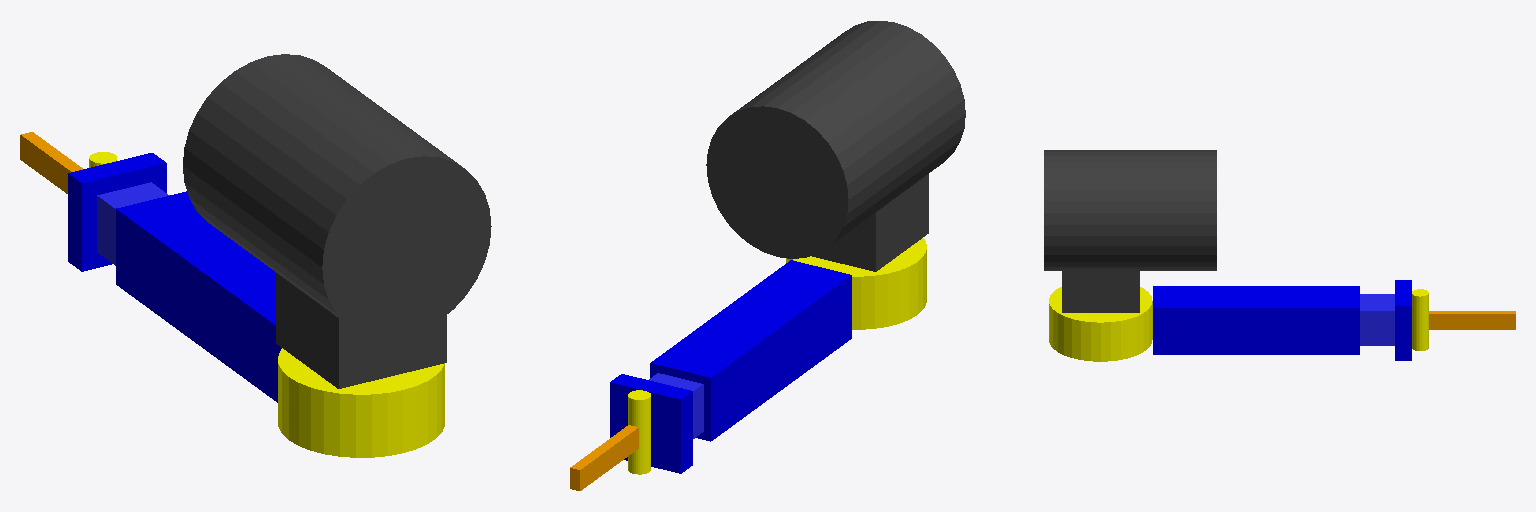
robot.urdf — third_arm_v1:
<?xml version="1.0"?>

<robot name="third_arm_v1">

  <!-- Third Arm Model I has 3 joints, need many more links to make the model -->

  <link name="base_link">
    <visual>
      <origin xyz="0 0 0" rpy ="1.5708 0 0"/>
      <material name="Grey">
      <color rgba="0.3 0.3 0.3 1.0"/>
      </material>
      <geometry>
        <cylinder length="0.2" radius="0.07" />
      </geometry>
    </visual>
  </link>

  <link name="block_to_base">
    <visual>
		<origin xyz="0 0 0" rpy ="0 1.5708  0"/>
      <material name="Gray">
       <color rgba="0.3 0.3 0.3 1.0"/>
      </material> 	
      <geometry>
        <box size="0.08 0.09 .09"/>
      </geometry>
    </visual>
  </link>

  <joint name="brace_block_link" type="fixed">
  	<origin xyz="0 -0.035 -0.07" rpy="0 0 0" />
    <parent link="base_link"/>
    <child link="block_to_base"/>
  </joint>


  <link name="base_motor">
  	<inertial>
  		<origin xyz="0 0 0" rpy ="0 0 0"/>
  		<mass value="1"/>
  		<inertia ixx="100"  ixy="0"  ixz="0" iyy="100" iyz="0" izz="100" />
  	</inertial>
    <visual>
		<origin xyz="0 0 0" rpy ="0 0  0"/>
      <material name="Yellow">
       <color rgba="1.0 1.0 0.0 1.0"/>
      </material> 	
      <geometry>
        <cylinder length="0.05" radius="0.06"/>
      </geometry>
    </visual>
  </link>


  <joint name="base_to_motor1" type="revolute">
  	<axis xyz="0 0 1"/>
  	<limit lower="-1.5708" upper="1.5708" effort="10" velocity="0.314"/>
  	<origin xyz="0 0 -0.07" rpy="0 0 0" />
    <parent link="block_to_base"/>
    <child link="base_motor"/>
  </joint>



  <link name="extend_link1">
    <visual>
		<origin xyz="0 0 0" rpy ="0 0 0"/>
      <material name="Blue">
       <color rgba="0 0.0 1.0 0.7"/>
      </material> 	
      <geometry>
        <box size="0.06 .24 .06"/>
      </geometry>
    </visual>
  </link>

  <joint name="motor1_to_extend1" type="fixed">
  	<origin xyz="0 0.18 0" rpy="0 0 0" />
    <parent link="base_motor"/>
    <child link="extend_link1"/>
  </joint>

  <link name="extend_link2">
    <visual>
		<origin xyz="0 0 0" rpy ="0 0 0"/>
      <material name="Blue2">
       <color rgba="0.2 0.2 1.0 1.0"/>
      </material> 	
      <geometry>
        <box size="0.045 .20 .045"/>
      </geometry>
    </visual>
  </link>

  <joint name="extension" type="prismatic">
  	<axis xyz="0 1 0"/>
  	<limit lower="0" upper="0.15" effort="10" velocity="5"/>
  	<origin xyz="0 0.07 0" rpy="0 0 0" />
    <parent link="extend_link1"/>
    <child link="extend_link2"/>
  </joint>


  <link name="wrist_plate">
    <visual>
		<origin xyz="0 0 0" rpy ="0 0 0"/>
      <material name="Blue">
       <color rgba="0.0 0.0 1.0 1.0"/>
      </material> 	
      <geometry>
        <box size="0.07 .02 .07"/>
      </geometry>
    </visual>
  </link>

  <joint name="wrist_motor_to_plate" type="fixed">
  	<origin xyz="0 0.1 0" rpy="0 0 0" />
    <parent link="extend_link2"/>
    <child link="wrist_plate"/>
  </joint>

  <link name="gripper_motor">
  	<inertial>
  		<origin xyz="0 0 0" rpy =" 1.5708 0  0"/>
  		<mass value="1"/>
  		<inertia ixx="100"  ixy="0"  ixz="0" iyy="100" iyz="0" izz="100" />
  	</inertial>
    <visual>
		<origin xyz="0 0 0" rpy ="0 0 0"/>
      <material name="Yellow">
       <color rgba="1.0 1.0 0.0 1.0"/>
      </material> 	
      <geometry>
        <cylinder length="0.07" radius="0.01"/>
      </geometry>
    </visual>
  </link>

  <joint name="gripper_motor_to_plate" type="fixed">
  	<origin xyz="0 0.02 0" rpy="0 0 0" />
    <parent link="wrist_plate"/>
    <child link="gripper_motor"/>
  </joint>

  <link name="finger1">
  	<inertial>
  		<origin xyz="0 0.06 0" rpy =" 0 0  0"/>
  		<mass value="1"/>
  		<inertia ixx="100"  ixy="0"  ixz="0" iyy="100" iyz="0" izz="100" />
  	</inertial>  	
    <visual>
		<origin xyz="0 0.06 0" rpy ="0 0 0"/>
      <material name="Orange1">
       <color rgba="1.0 0.65 0.0 1.0"/>
      </material> 	
      <geometry>
        <box size="0.01 .1 .02"/>
      </geometry>
    </visual>
  </link>

  <joint name="finger1_to_gripper_motor" type="revolute">
  	<axis xyz="0 0 1"/>
  	<limit lower="0" upper="1" effort="5" velocity="0.5"/>
  	<origin xyz="0 0 0" rpy="0 0 0" />
    <parent link="gripper_motor"/>
    <child link="finger1"/>
  </joint>

  <link name="finger2">
  	<inertial>
  		<origin xyz="0 0.06 0" rpy =" 0 0  0"/>
  		<mass value="1"/>
  		<inertia ixx="100"  ixy="0"  ixz="0" iyy="100" iyz="0" izz="100" />
  	</inertial>
    <visual>
		<origin xyz="0 0.06 0" rpy ="0 0 0"/>
      <material name="Orange2">
       <color rgba="1.0 0.55 0.0 1.0"/>
      </material> 	
      <geometry>
        <box size="0.01 .1 .02"/>
      </geometry>
    </visual>
  </link>

  <joint name="finger2_to_gripper_motor" type="revolute">
  	<axis xyz="0 0 1"/>
  	<limit lower="-1" upper="0" effort="5" velocity="0.5"/>
  	<origin xyz="0 0 0" rpy="0 0 0" />
  	<mimic joint="finger1_to_gripper_motor" multiplier="-1" />
    <parent link="gripper_motor"/>
    <child link="finger2"/>
  </joint>

</robot>

--- Facts derived from the render (not from the file) ---
3 views of the same robot in one strip: view 1: azimuth 30°, elevation 25°; view 2: azimuth 150°, elevation 25°; view 3: azimuth 270°, elevation 25° (orthographic).
Model third_arm_v1 with 9 links and 8 joints (3 revolute, 1 prismatic, 4 fixed), rooted at base_link, posed all joints at 0.
Links seen in each view (by area): view 1: base_link, extend_link1, base_motor, block_to_base, wrist_plate, extend_link2, finger1; view 2: base_link, extend_link1, base_motor, block_to_base, wrist_plate, finger1, gripper_motor, extend_link2; view 3: base_link, extend_link1, base_motor, block_to_base, extend_link2, finger1, wrist_plate, gripper_motor.
Boxes of the visible links, x1,y1,x2,y2 form: base_link: (183,54,491,337); extend_link1: (116,191,281,402); base_motor: (278,348,444,457); block_to_base: (276,273,446,388); wrist_plate: (68,153,166,271); extend_link2: (97,182,169,265); finger1: (20,132,82,193); base_link: (706,21,965,258); extend_link1: (650,260,851,441); base_motor: (786,238,926,329); block_to_base: (812,174,928,271); wrist_plate: (610,374,692,473); finger1: (570,425,638,490); gripper_motor: (628,390,650,474); extend_link2: (649,373,703,438); base_link: (1044,150,1216,270); extend_link1: (1153,286,1359,354); base_motor: (1049,287,1152,361); block_to_base: (1062,269,1139,312); extend_link2: (1360,294,1394,345); finger1: (1429,311,1515,329); wrist_plate: (1395,280,1411,360); gripper_motor: (1412,289,1428,350).
Size in the robot's own frame: 0.14 by 0.545 by 0.245 metres.
Geometry: primitives only (box / cylinder / sphere), no mesh files.